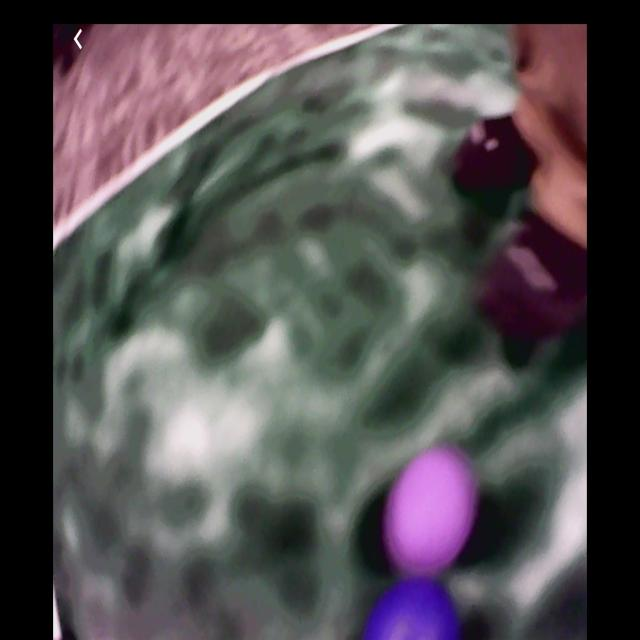ball: (392, 454, 465, 568), (363, 579, 456, 640)
